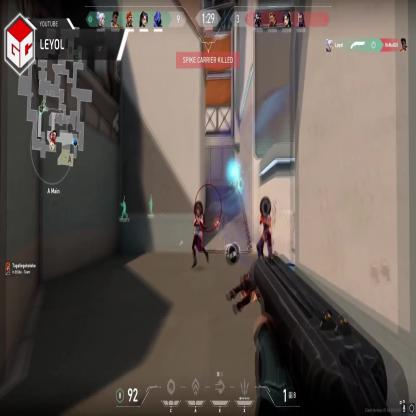enemy: (191, 203, 208, 267), (258, 203, 273, 266)
enemy_head: (261, 203, 268, 216), (196, 204, 201, 216)
